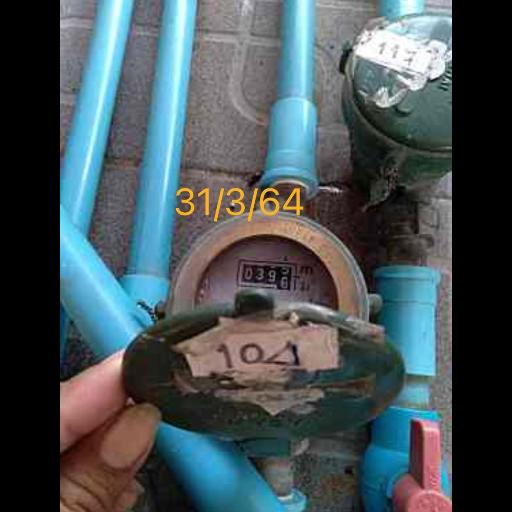0: (241, 264, 255, 283)
3: (253, 264, 267, 284)
5: (277, 266, 292, 290)
9: (266, 265, 278, 284)
border_water_meter_number: (235, 258, 297, 291)
